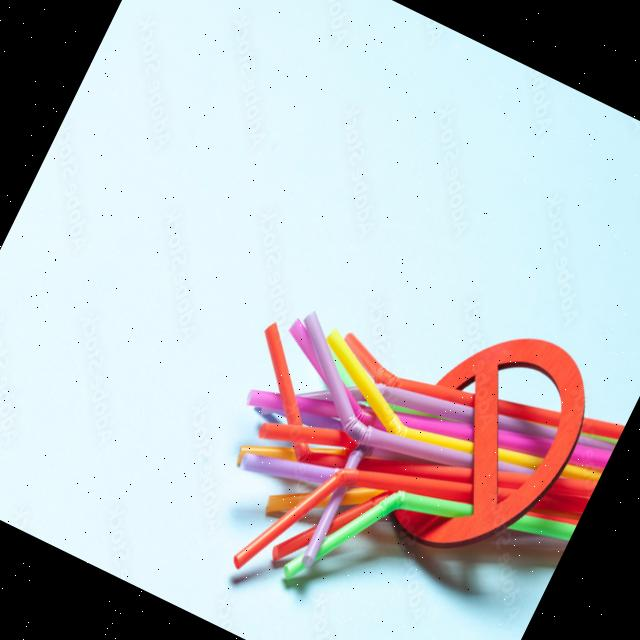plastic: (262, 298, 483, 482)
